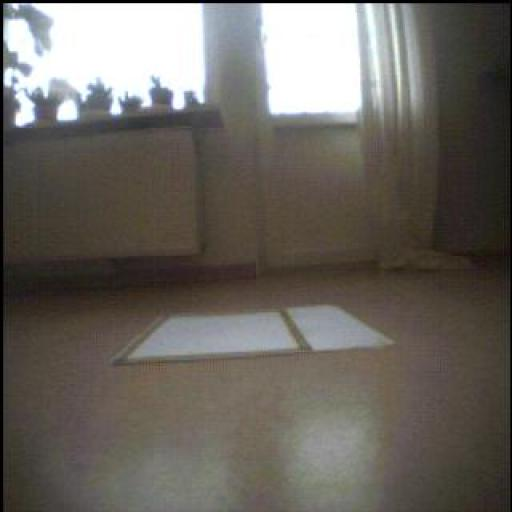Pad: (115, 307, 393, 364)
